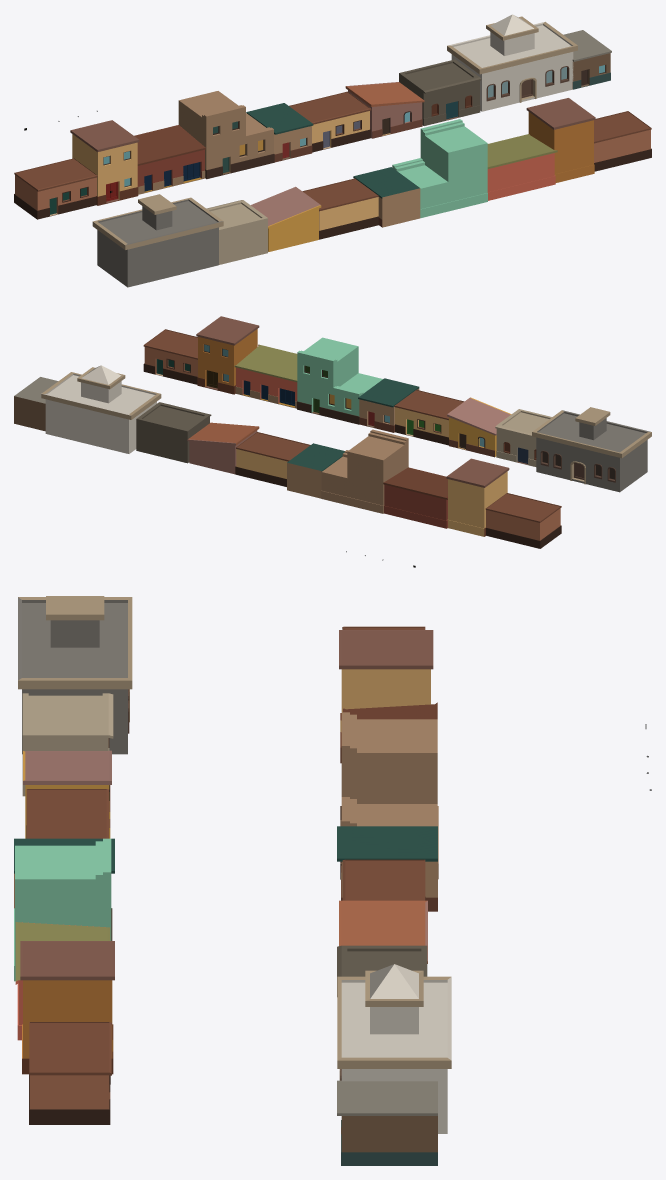
Rendered from CASAS.fbx.
The picture shows the model from 3 angles, top to bottom: view 1: azimuth 30°, elevation 25°; view 2: azimuth 150°, elevation 25°; view 3: azimuth 270°, elevation 25°; orthographic projection. The views are drawn at different scales.
Parts seen in each view (by area): view 1: Cube.018, Cube.015, Cube.024, Cube.010, Cube.001, Cube.028, Cube, Cube.005, Cube.016, Cube.027, Cube.013, Cube.022 (+7 smaller); view 2: Cube.018, Cube.015, Cube.024, Cube.010, Cube.001, Cube.028, Cube, Cube.027, Cube.005, Cube.016, Cube.013, Cube.022 (+7 smaller); view 3: Cube.015, Cube.018, Cube.010, Cube.029, Cube.017, Cube.024, Cube.028, Cube.001, Cube.019, Cube.011, Cube.022, Cube.014 (+6 smaller).
Part boxes in pixels (x1,y1,x2,y2): Cube.018: (92,194,223,287); Cube.015: (447,14,577,111); Cube.024: (392,119,487,218); Cube.010: (178,91,274,179); Cube.001: (70,120,139,205); Cube.028: (526,98,595,182); Cube: (14,158,97,219); Cube.005: (134,125,205,194); Cube.016: (399,59,481,125); Cube.027: (487,134,557,200); Cube.013: (289,91,371,152); Cube.022: (302,178,378,239); Cube.018: (532,407,651,492); Cube.015: (41,365,161,453); Cube.024: (297,337,382,424); Cube.010: (321,429,408,513); Cube.001: (446,458,509,536); Cube.028: (196,316,259,394); Cube: (485,493,561,548); Cube.027: (234,344,297,408); Cube.005: (383,467,447,528); Cube.016: (136,402,211,463); Cube.013: (235,432,310,486); Cube.022: (394,389,464,445); Cube.015: (337,964,451,1133); Cube.018: (18,596,132,754); Cube.010: (340,712,438,879); Cube.029: (29,1022,111,1124); Cube.017: (337,1080,437,1165); Cube.024: (14,838,112,981); Cube.028: (20,941,114,1074); Cube.001: (339,630,433,763); Cube.019: (22,693,113,796); Cube.011: (337,826,437,911); Cube.022: (26,789,109,838); Cube.014: (339,900,427,963).
Bounding box in the file's own units: 7499 × 933 × 4105.
